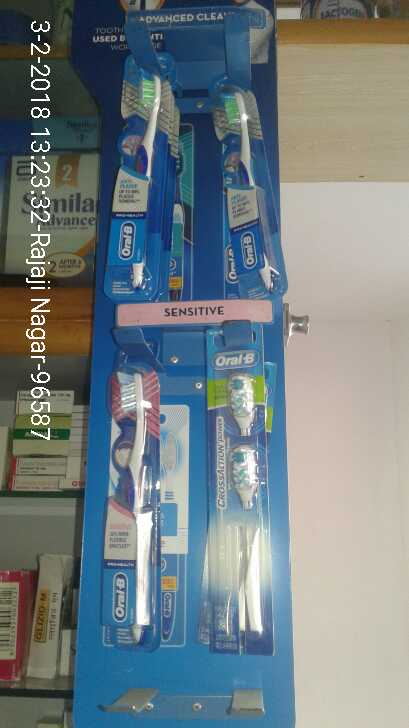oralb: (102, 359, 179, 654), (213, 362, 278, 646), (212, 84, 287, 298), (111, 72, 168, 300)
